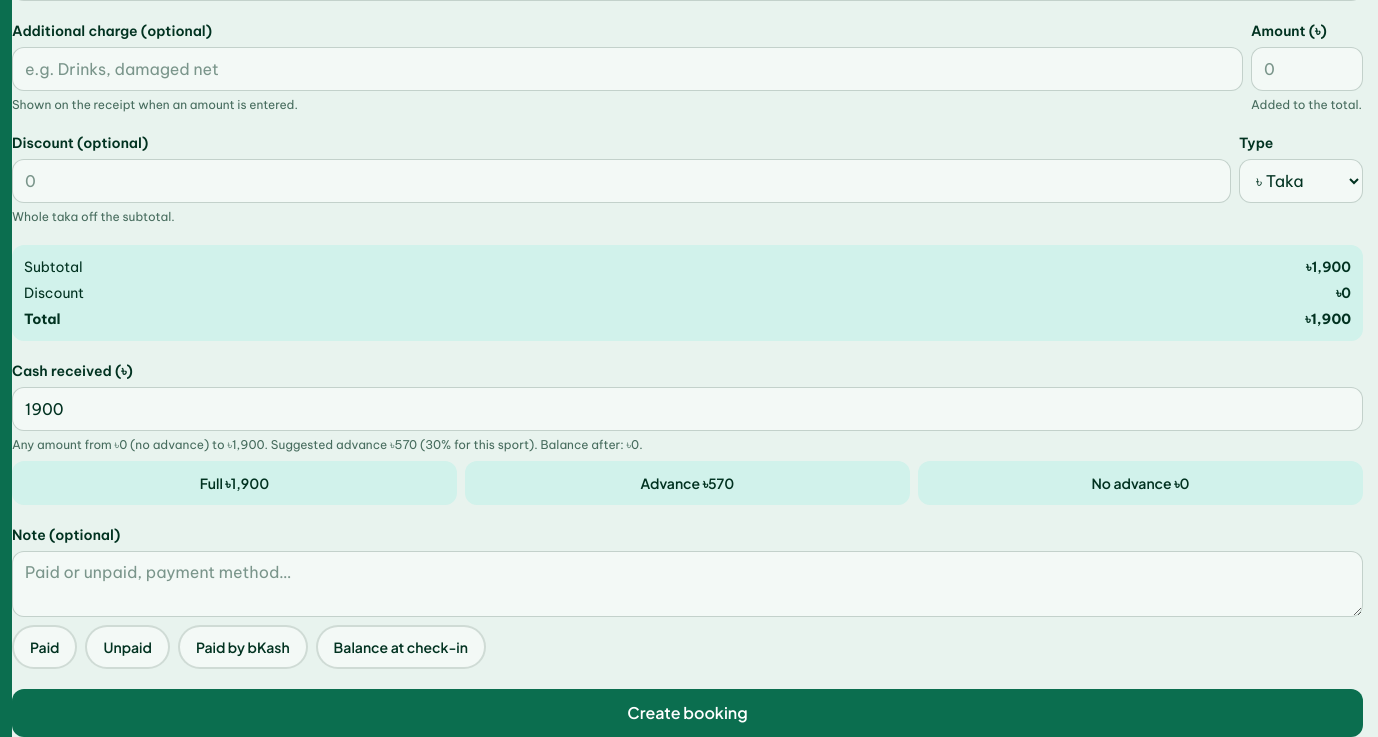
Test case: WalkInForm note › quick picks fill the note, toggle off, and Paid/Unpaid swap
(page scrolled)
Check: the button "Full ৳1,900" is shown, box [12,461,457,505]
Click the button "Paid".
click(45, 647)  # box [12,625,78,669]
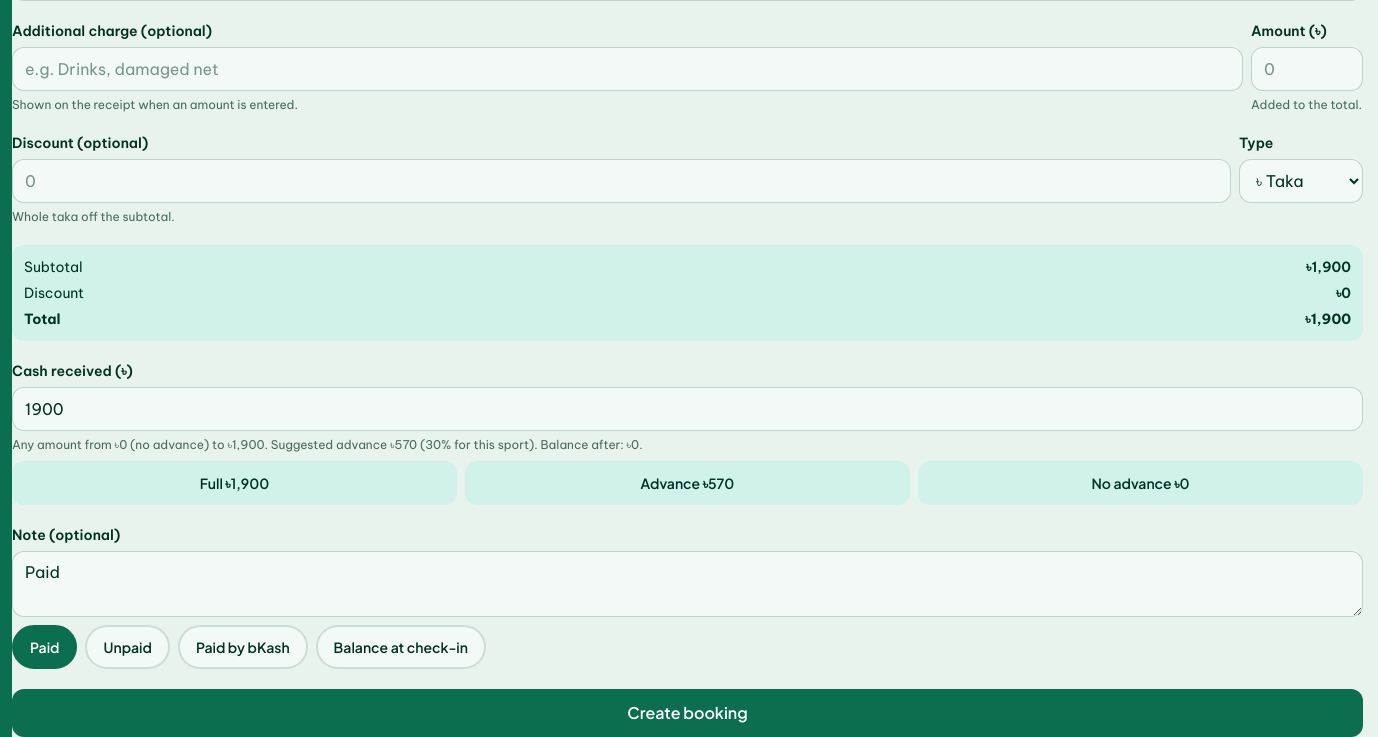
Check: the text box labelled "Note (optional)" holds "Paid", box [12,551,1363,617]
Click the button "Unpaid".
click(128, 647)  # box [86,625,170,669]
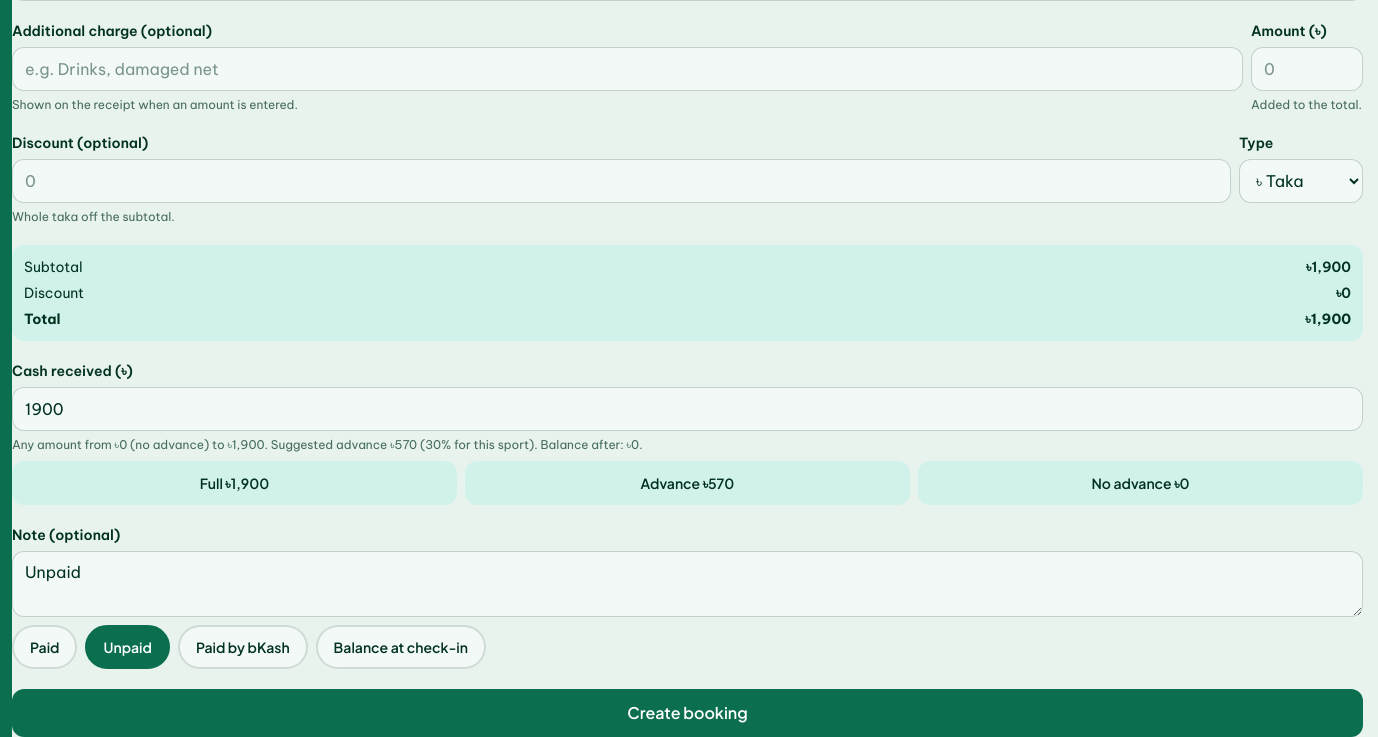
Check: the text box labelled "Note (optional)" holds "Unpaid", box [12,551,1363,617]
Click the button "Unpaid".
click(128, 647)  # box [86,625,170,669]
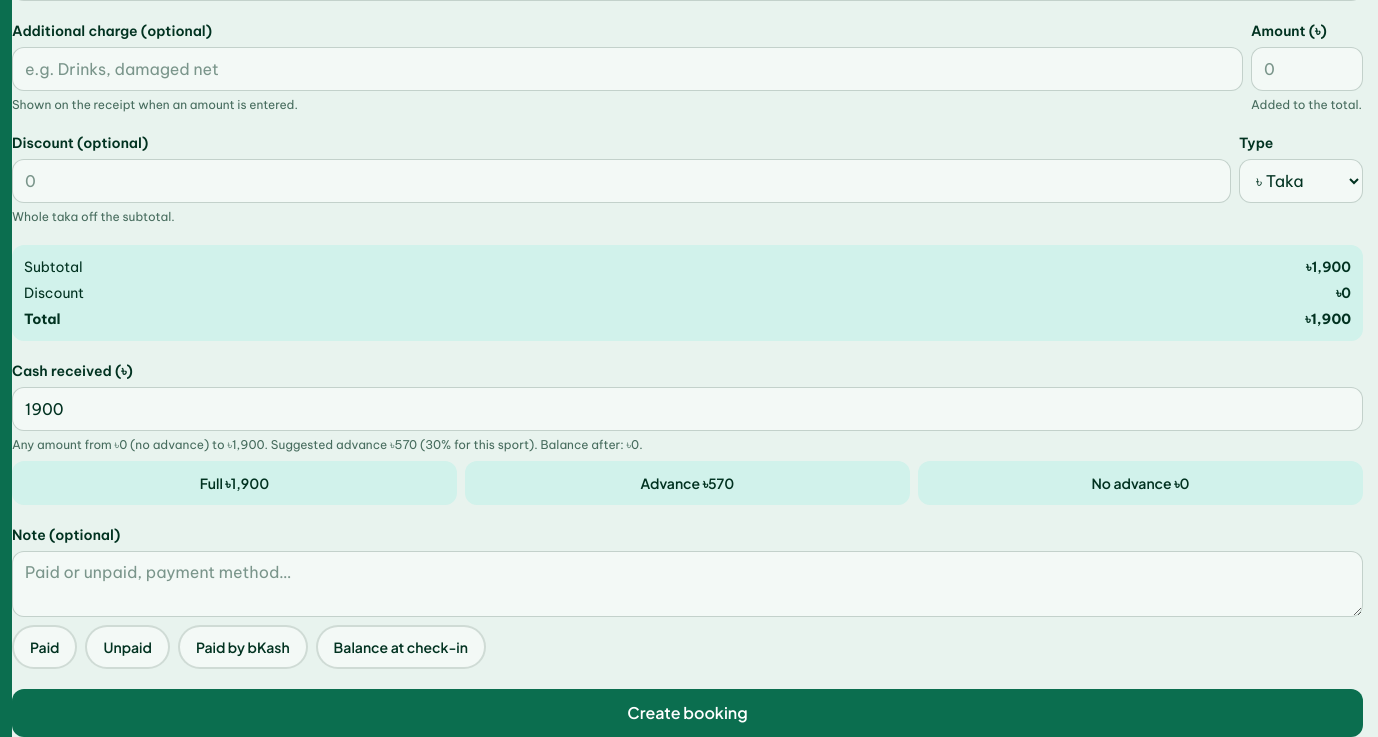
Check: the text box labelled "Note (optional)" is empty, box [12,551,1363,617]
